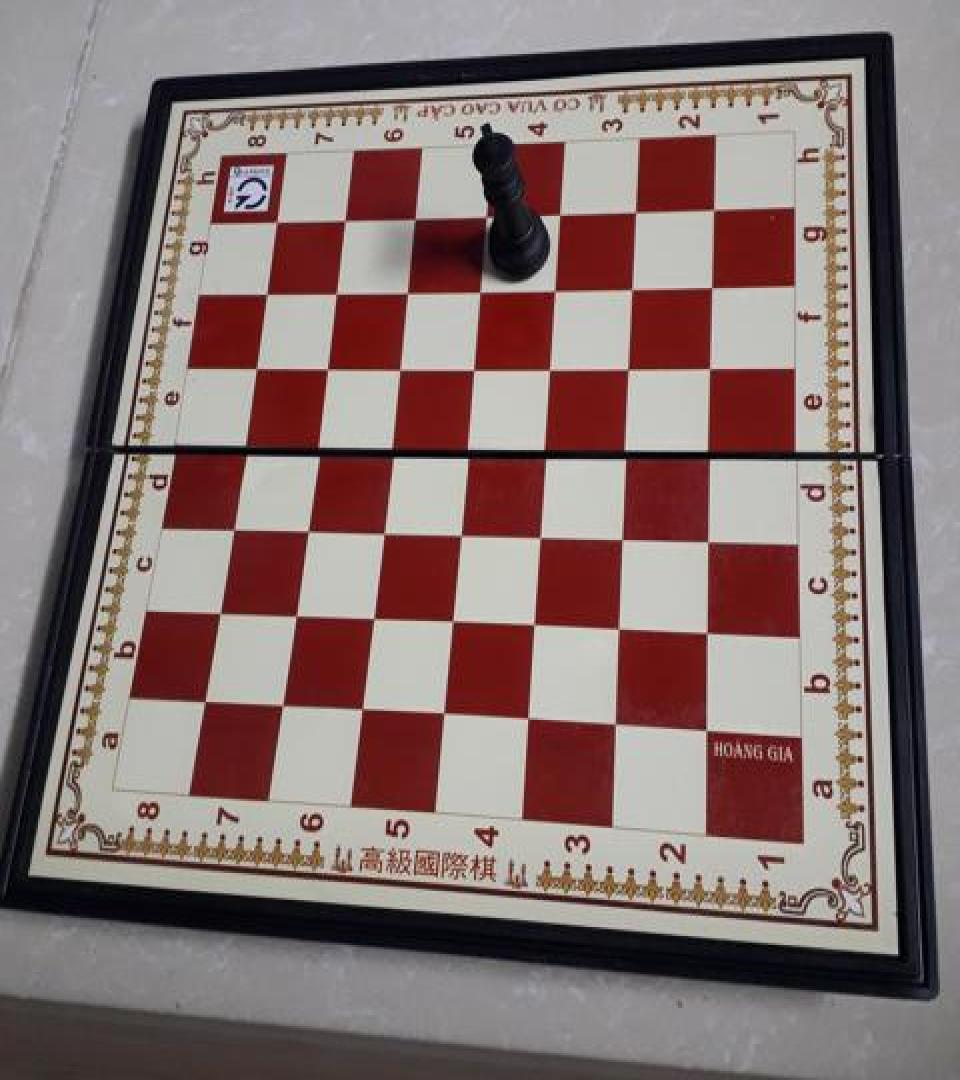xcorner: (192, 685, 220, 717), (350, 694, 378, 726), (517, 703, 545, 735), (695, 712, 723, 744), (205, 595, 233, 627), (281, 598, 309, 630), (440, 604, 468, 636), (523, 607, 551, 639), (696, 614, 724, 646), (369, 514, 397, 546), (448, 515, 476, 547), (529, 517, 557, 549), (615, 432, 643, 464), (699, 432, 727, 464), (243, 352, 271, 384), (314, 351, 342, 383), (387, 351, 415, 383), (395, 274, 423, 306), (469, 273, 497, 305), (544, 271, 572, 303), (622, 270, 650, 302), (264, 207, 292, 239), (403, 202, 431, 234), (475, 199, 503, 231), (702, 191, 730, 223), (270, 690, 298, 721), (432, 699, 460, 730), (604, 708, 632, 739), (360, 602, 388, 633), (608, 611, 636, 642), (218, 511, 246, 542), (293, 512, 321, 543), (612, 519, 640, 550), (698, 521, 726, 552), (231, 430, 259, 461), (303, 430, 331, 461), (378, 430, 406, 461), (455, 431, 483, 462), (534, 431, 562, 462), (462, 350, 490, 381), (539, 350, 567, 381), (619, 349, 647, 380), (700, 349, 728, 380), (254, 278, 282, 309), (324, 277, 352, 308), (701, 268, 729, 299), (333, 205, 361, 236), (549, 197, 577, 228), (625, 195, 653, 226)
